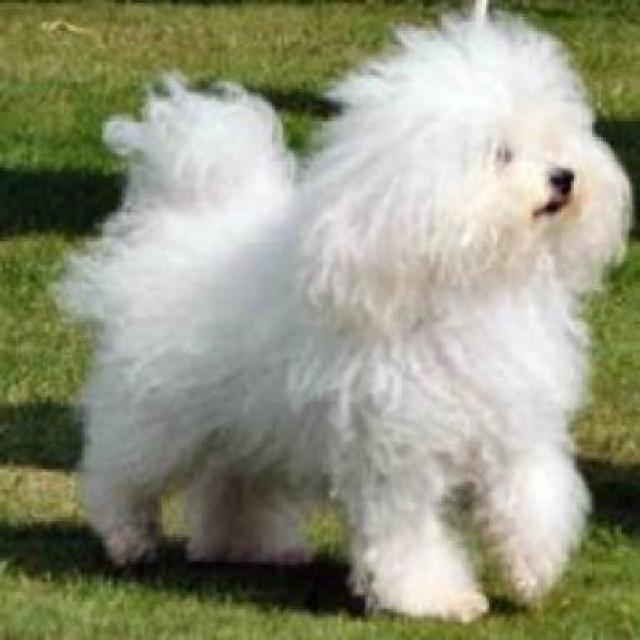Dog: (48, 0, 637, 629)
